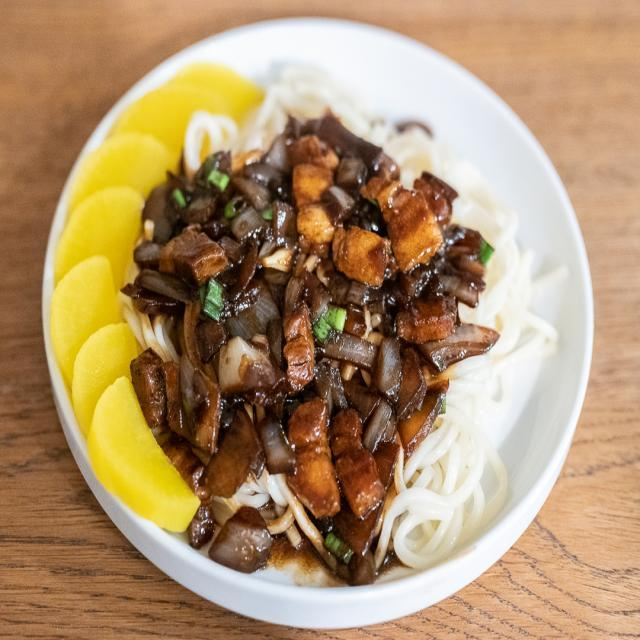cac loai rau cu: (52, 133, 144, 408), (99, 63, 264, 188), (94, 380, 191, 533), (314, 308, 346, 340), (327, 528, 354, 561), (205, 159, 227, 190), (208, 277, 223, 322), (169, 185, 188, 209), (222, 199, 243, 218), (483, 233, 493, 272), (261, 201, 276, 223)
mi jajangmyeon: (451, 161, 555, 494), (188, 71, 441, 175), (396, 415, 509, 574)
mi tuong den Jajangmyeon: (42, 58, 568, 587)
thit heo: (229, 345, 365, 501), (168, 238, 304, 372), (339, 196, 470, 309)
